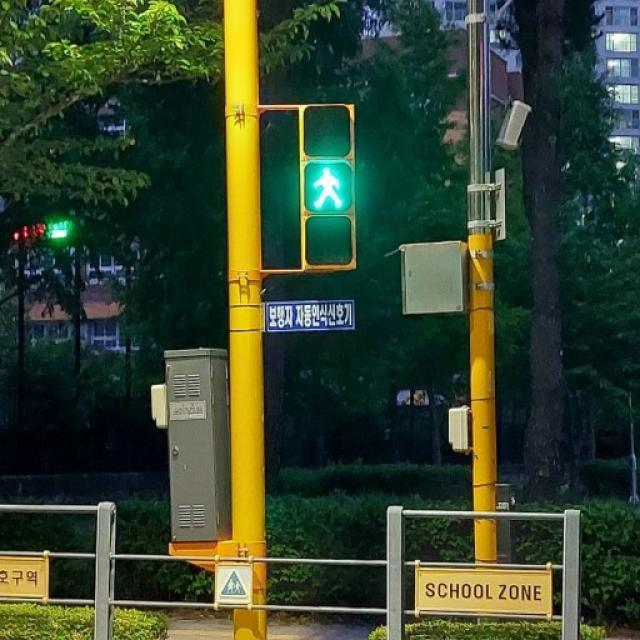green_light: (306, 170, 348, 211)
